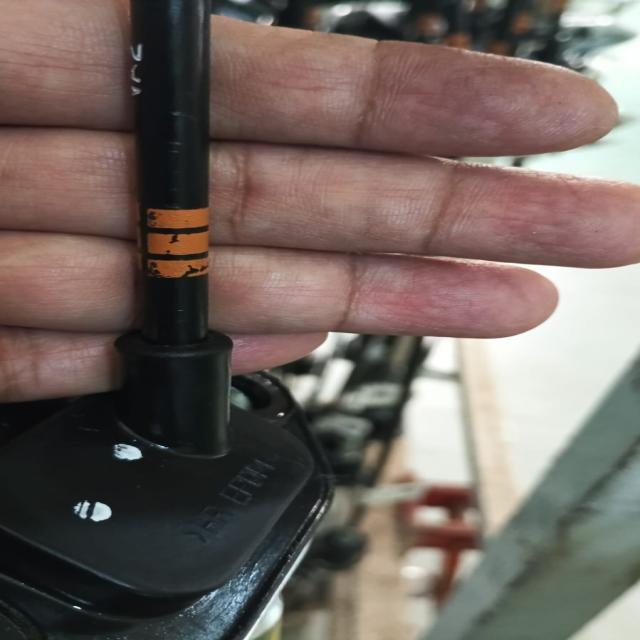orange: (144, 206, 209, 280)
